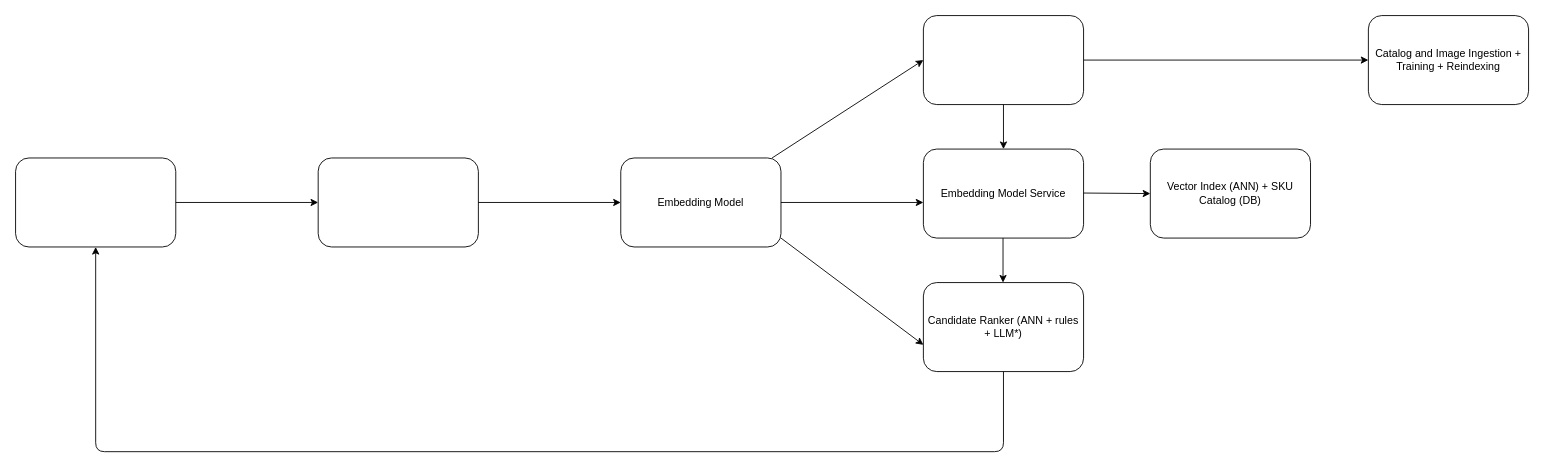
Image size: 1544x474. Some labels were removed from this diagram. Here are the shapes that lost their labels. From the top down, the box of each, then its label:
(922, 15, 1084, 105): Image Preprocess (normal, resize, crop)
(15, 157, 176, 247): Client Web/App
(317, 157, 478, 247): API Service
